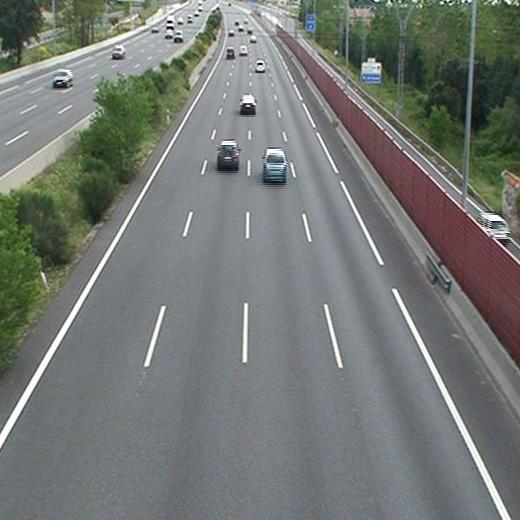car: (263, 150, 287, 179), (218, 142, 239, 164), (239, 95, 256, 111), (255, 60, 266, 72), (225, 48, 235, 58), (238, 46, 248, 55)
